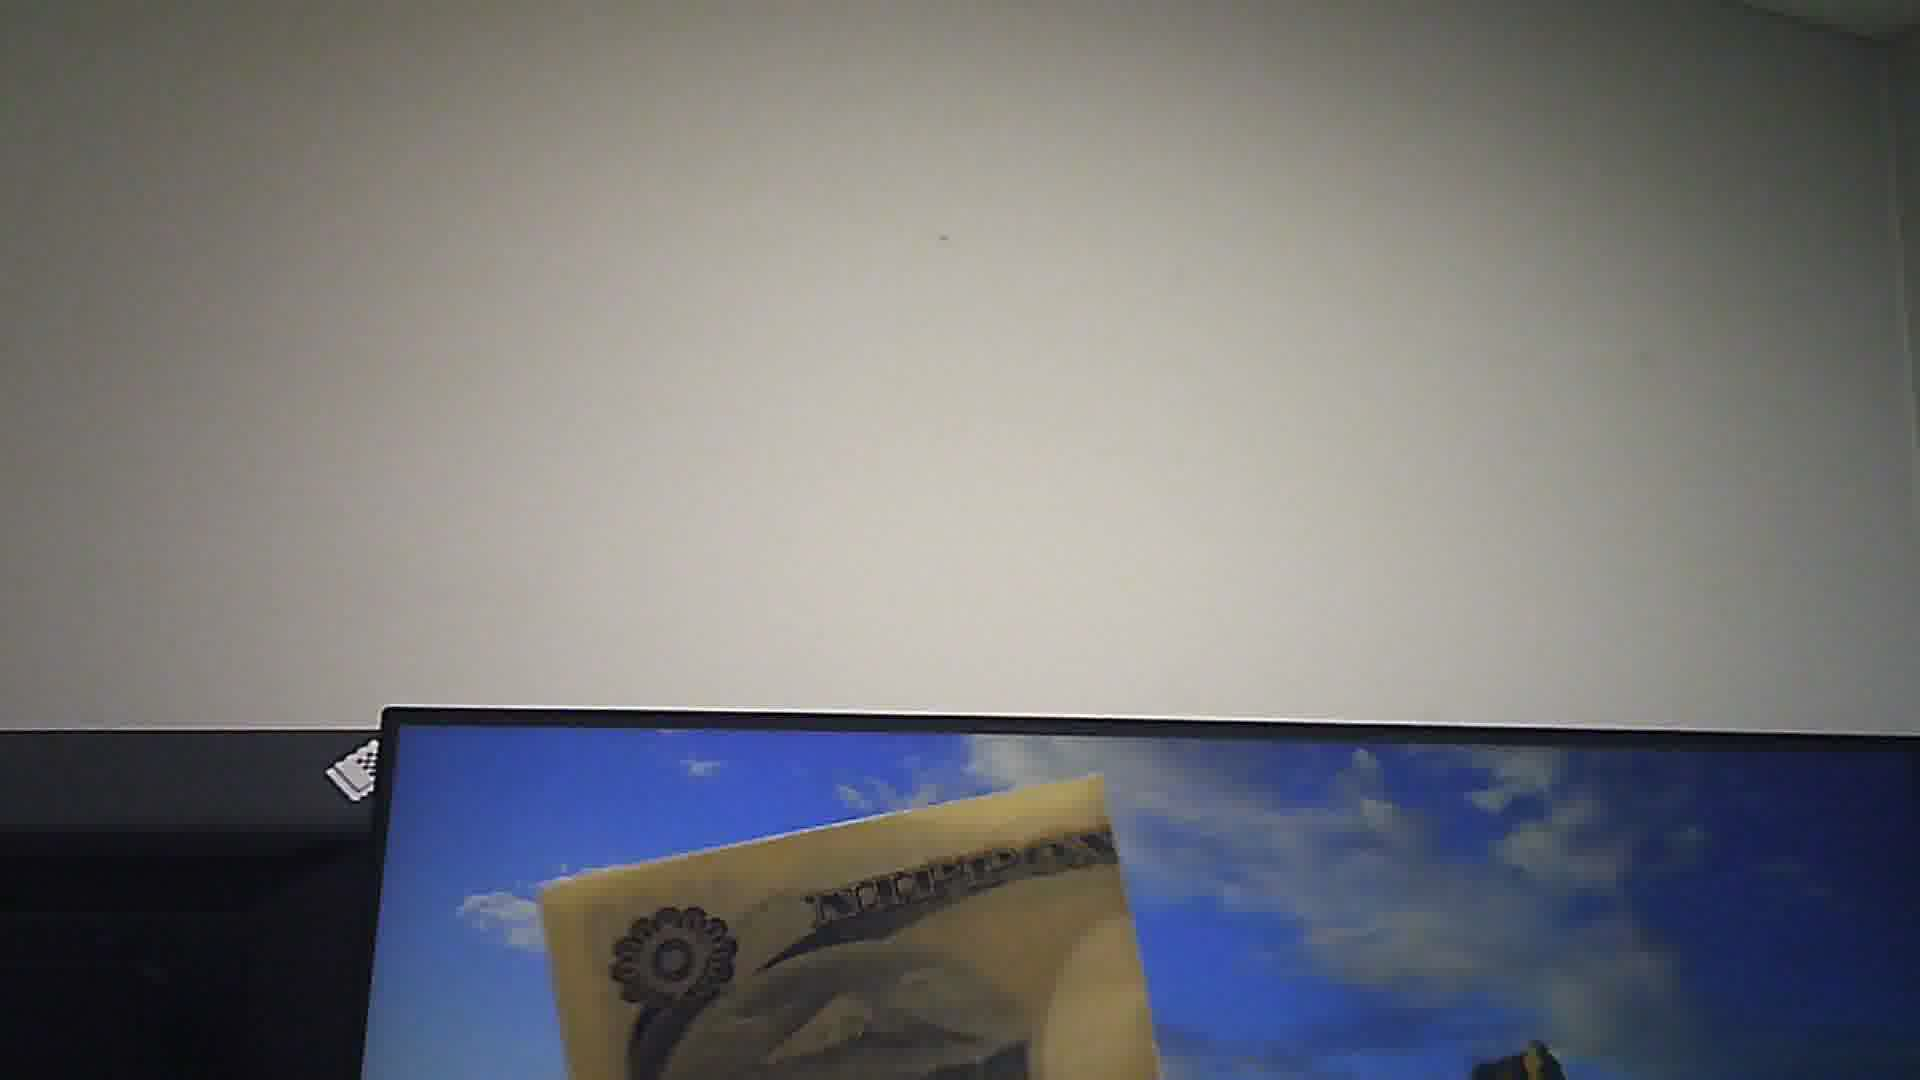1,000 Yen: (525, 774, 1182, 1073)
